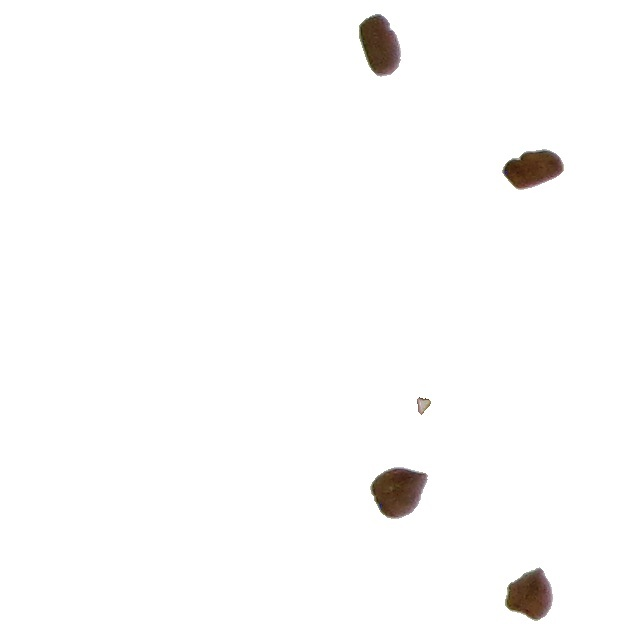buckwheat: (369, 466, 429, 520), (358, 13, 402, 78), (504, 566, 554, 622), (501, 148, 565, 191)
other: (416, 396, 432, 416)
